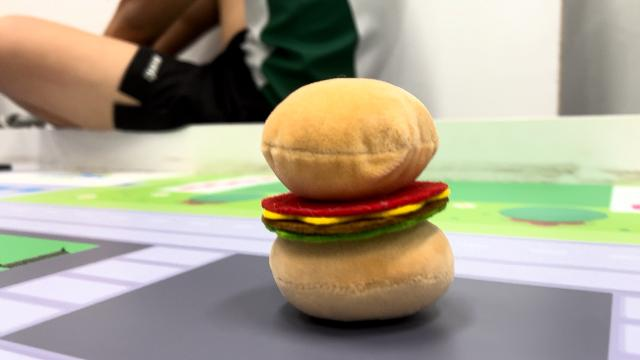burger: (252, 73, 462, 324)
